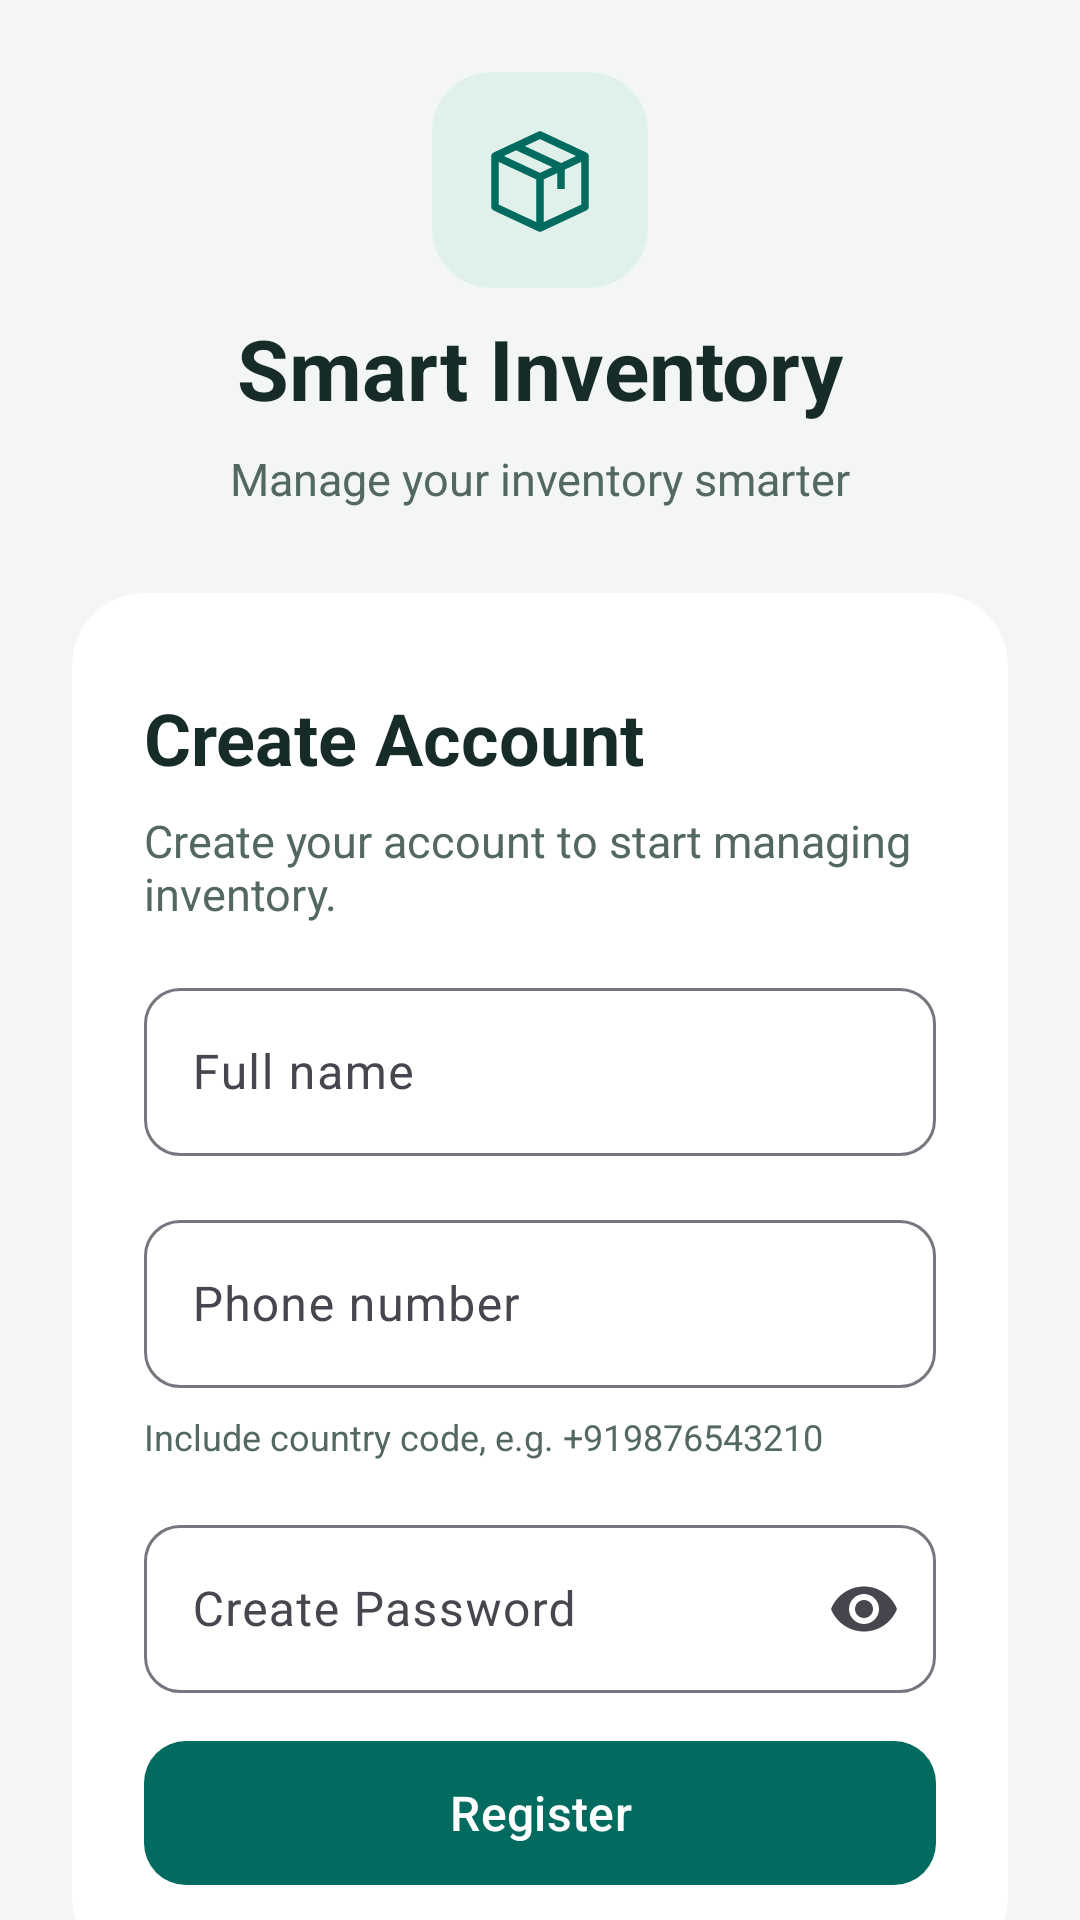

Locate icon controls on the screen. Image size 1080w x 1920h, boxes as (x1, y1, x2, y2).
inventory mark: (432, 72, 648, 288)
